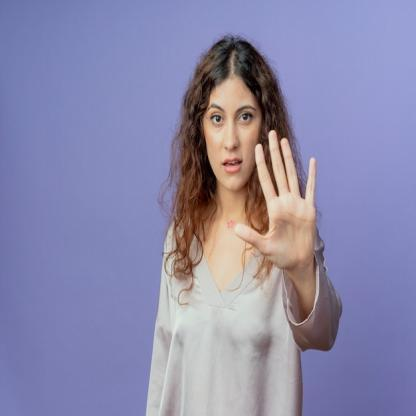stop: (232, 126, 324, 278)
